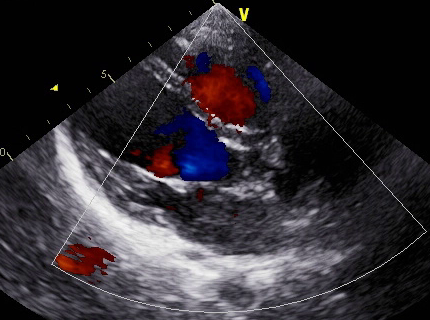AR: (145, 138, 195, 180)
